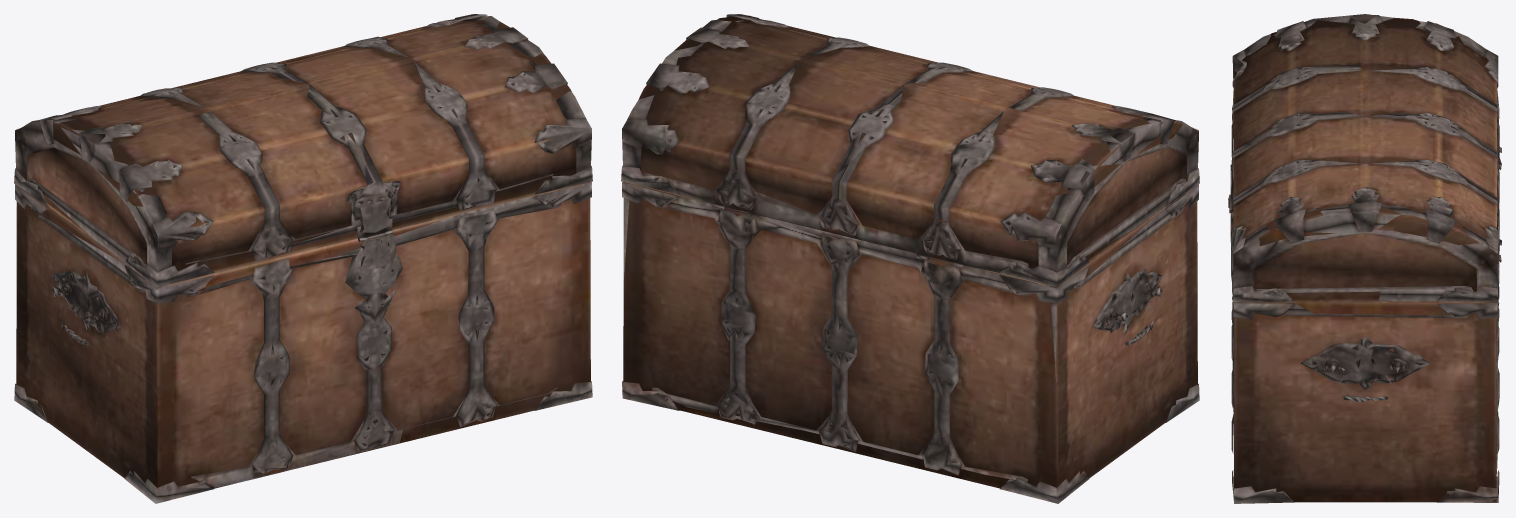
File: treasure_chest.glb
3 renders of one model, left to right at view 1: azimuth 30°, elevation 25°; view 2: azimuth 150°, elevation 25°; view 3: azimuth 270°, elevation 25°, orthographic. The views are drawn at different scales.
Parts seen in each view (by area): view 1: treasure_chest_bottom; view 2: treasure_chest_bottom; view 3: treasure_chest_bottom.
Part boxes in pixels (x1,y1,x2,y2): treasure_chest_bottom: (14,14,592,503); treasure_chest_bottom: (621,14,1199,503); treasure_chest_bottom: (1228,14,1501,503).
Bounding box in the file's own units: 0.9551 × 0.6159 × 0.5223.
Materials: 1 (1 with a texture image).
